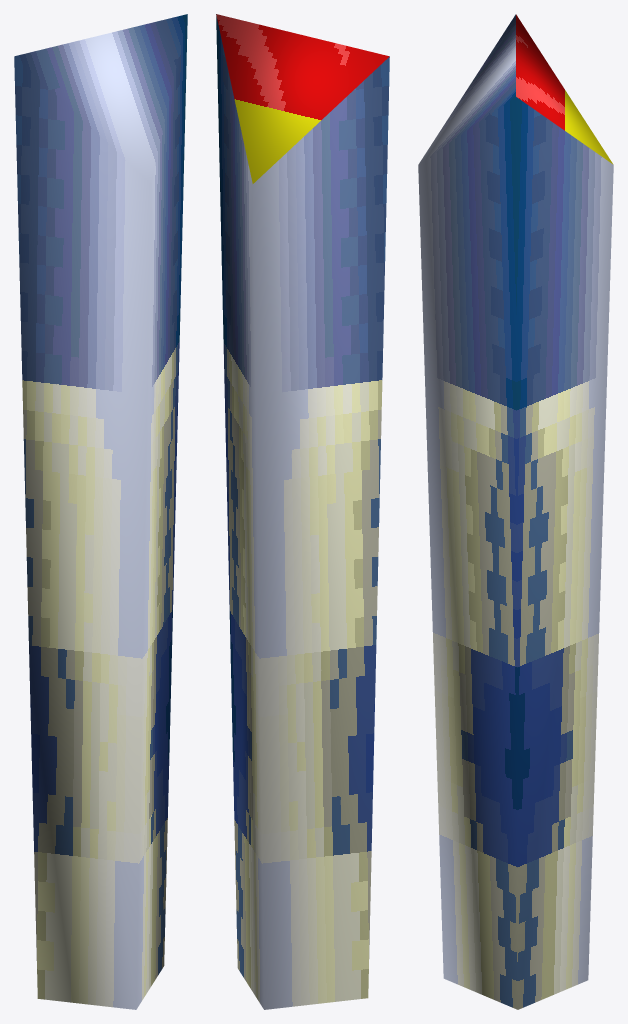
The model's file is ImagingPoleZ_Anim.glb.
The picture shows the model from 3 angles, left to right: view 1: azimuth 30°, elevation 25°; view 2: azimuth 150°, elevation 25°; view 3: azimuth 270°, elevation 25°; orthographic projection. The views are drawn at different scales.
Visible parts, largest first — view 1: ImagingPoleZ_Anim_part00; view 2: ImagingPoleZ_Anim_part00; view 3: ImagingPoleZ_Anim_part00.
Boxes of the visible parts, box(x1,y1,x2,y2) form: ImagingPoleZ_Anim_part00: box(14, 14, 187, 1009); ImagingPoleZ_Anim_part00: box(216, 14, 389, 1009); ImagingPoleZ_Anim_part00: box(418, 14, 613, 1009).
Size of the model in its own units: 2.04 by 10.62 by 2.04.
2 materials, 2 textured.
